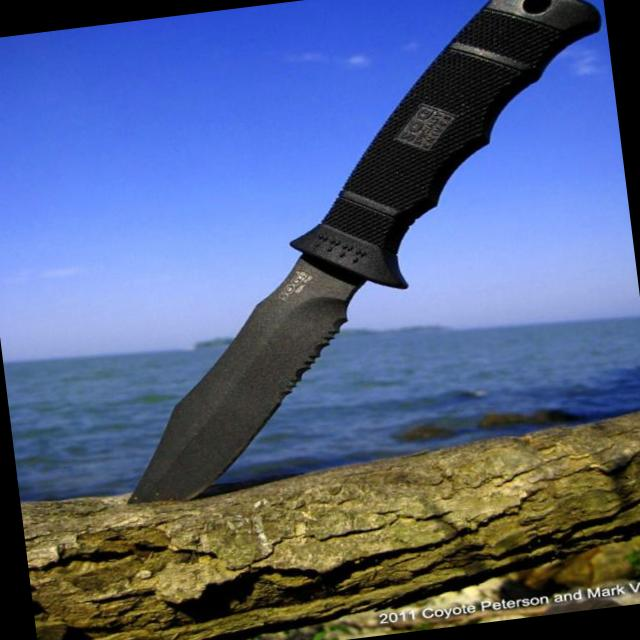Knife: (129, 0, 600, 502)
